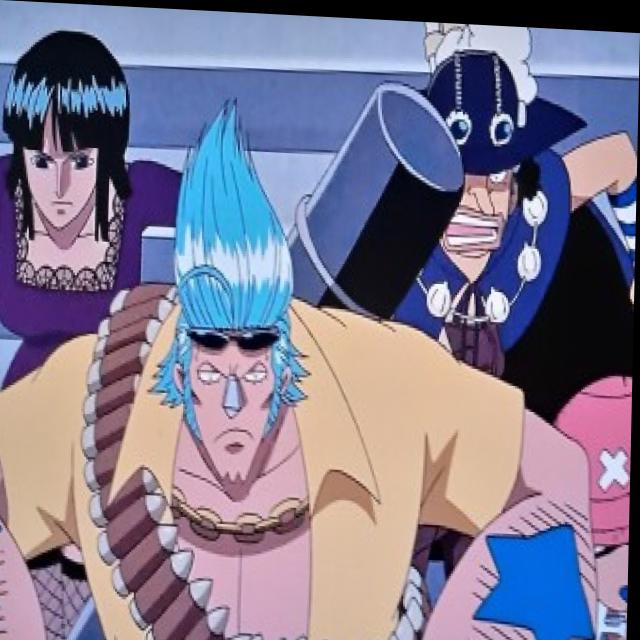Chyopa: (549, 369, 634, 626)
Franky: (148, 85, 306, 482)
NicoRobin: (0, 23, 138, 245)
Usopp: (419, 42, 548, 271)
